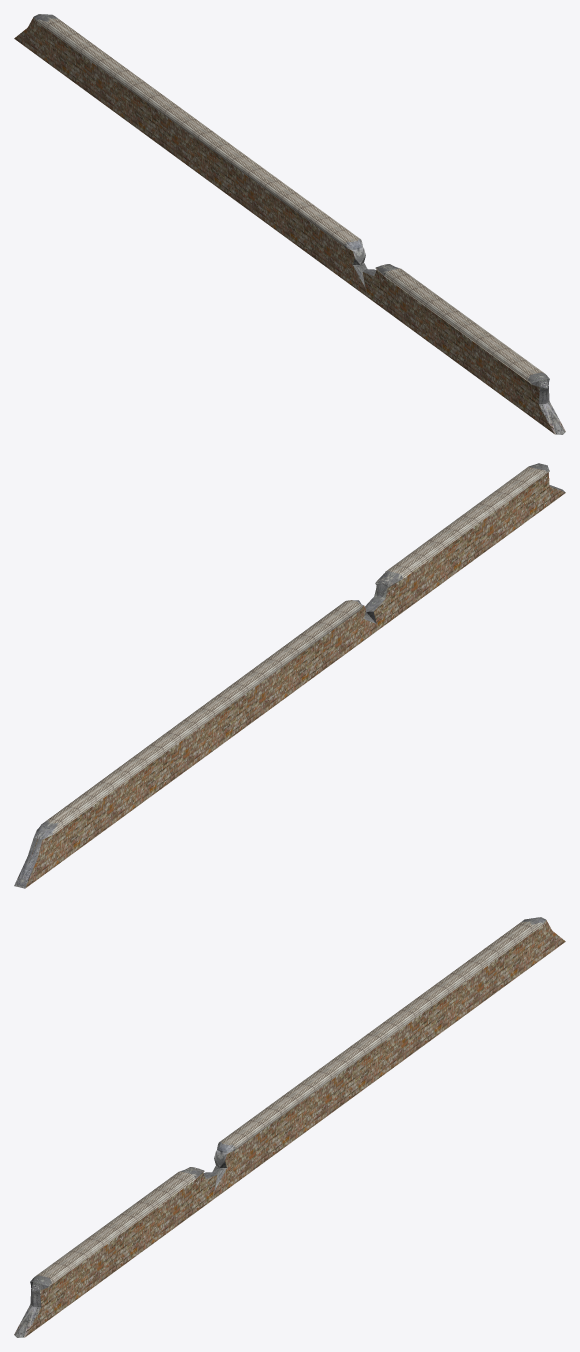
Rendered from Wall_park_LOD1.FBX.
3 renders of one model, top to bottom at view 1: azimuth 30°, elevation 25°; view 2: azimuth 150°, elevation 25°; view 3: azimuth 330°, elevation 25°, orthographic.
Parts seen in each view (by area): view 1: Box002; view 2: Box002; view 3: Box002.
Boxes of the visible parts, x1,y1,x2,y2 form: Box002: [14, 14, 565, 434]; Box002: [14, 463, 565, 888]; Box002: [14, 917, 565, 1337].
Bounding box in the file's own units: 0.3268 × 0.6538 × 15.62.
Materials: 1 (1 with a texture image).
